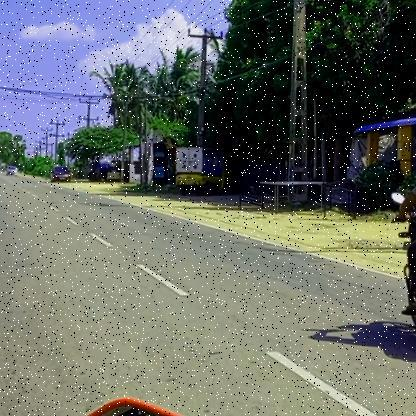motorcycle: (388, 186, 416, 364)
